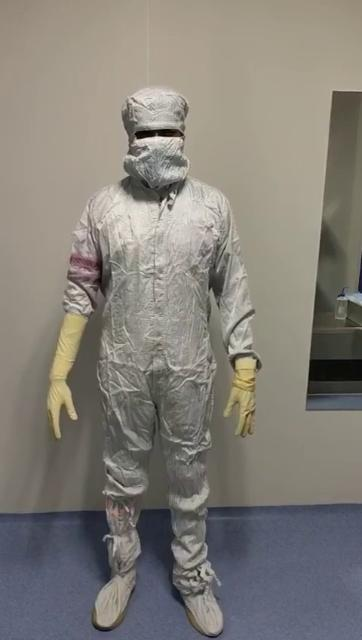boot_not_secured: (162, 508, 235, 640)
boot_secured: (90, 482, 152, 634)
gloves_fitted_securely: (40, 290, 106, 448)
gloves_not_fitted_securely: (221, 340, 277, 444)
headgear_secured: (112, 78, 196, 194)
zip_not_secured: (151, 176, 182, 234)
